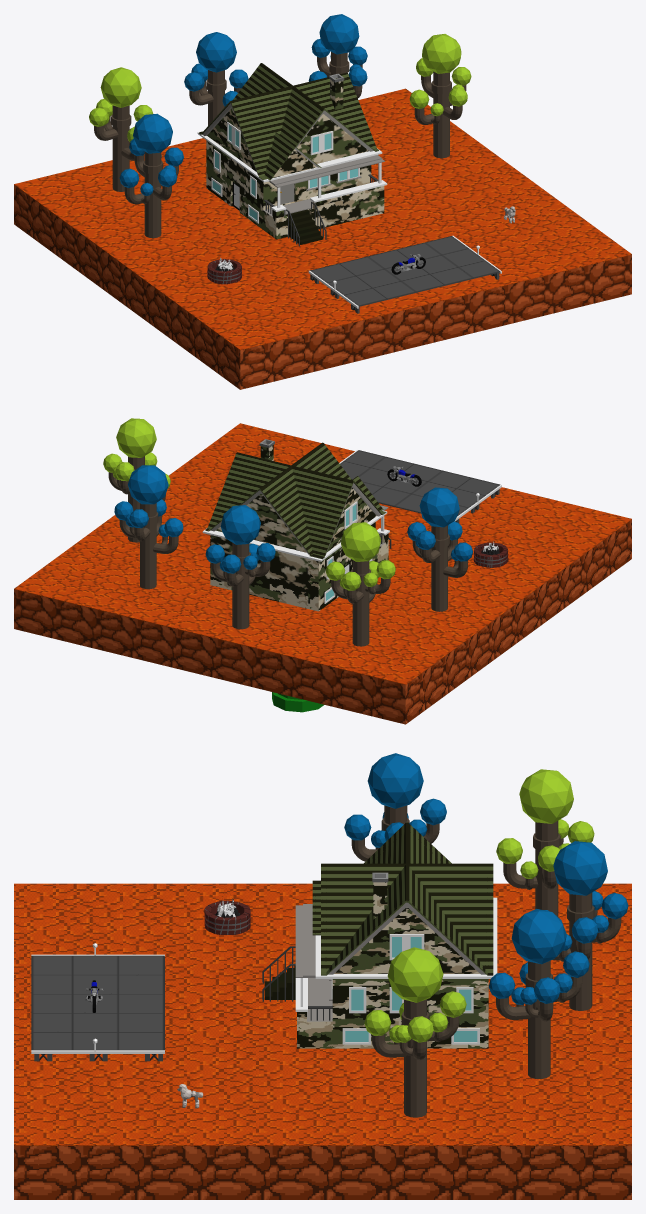
3 views of the same model, one above another, from view 1: azimuth 30°, elevation 25°; view 2: azimuth 150°, elevation 25°; view 3: azimuth 270°, elevation 25° (orthographic). The views are drawn at different scales.
Visible parts, largest first — view 1: Cube.001, Cube.002, OBJRANDOM_CAMPFIRE; view 2: Cube.001, Cube.002, OBJRANDOM_CAMPFIRE, UNDERGROUND_PIPES; view 3: Cube.001, Cube.002, OBJRANDOM_CAMPFIRE.
Boxes of the visible parts, x1,y1,x2,y2 form: Cube.001: (14,14,631,389); Cube.002: (197,63,387,246); OBJRANDOM_CAMPFIRE: (207,257,241,284); Cube.001: (14,418,631,724); Cube.002: (202,439,391,611); OBJRANDOM_CAMPFIRE: (473,541,508,567); UNDERGROUND_PIPES: (272,692,324,712); Cube.001: (14,753,631,1199); Cube.002: (262,822,497,1048); OBJRANDOM_CAMPFIRE: (204,896,250,934).
Bounding box in the file's own units: 4000 × 2247 × 4000.
30 materials, 6 textured.
